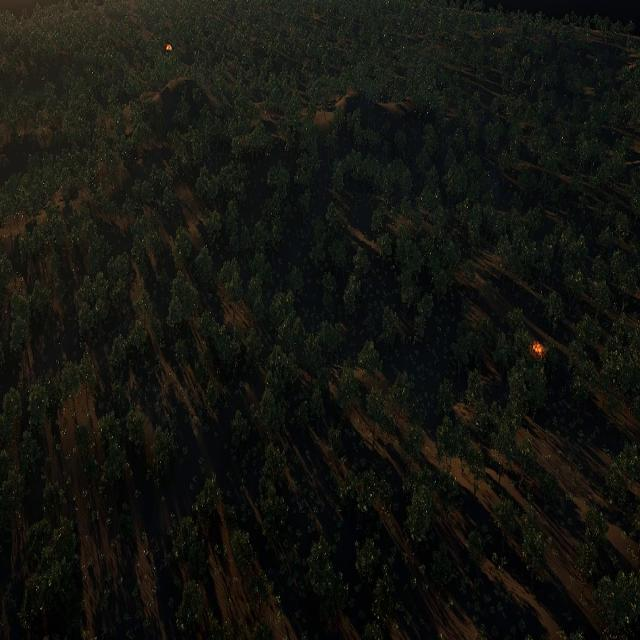fire: (531, 343, 544, 357), (167, 43, 173, 51)
